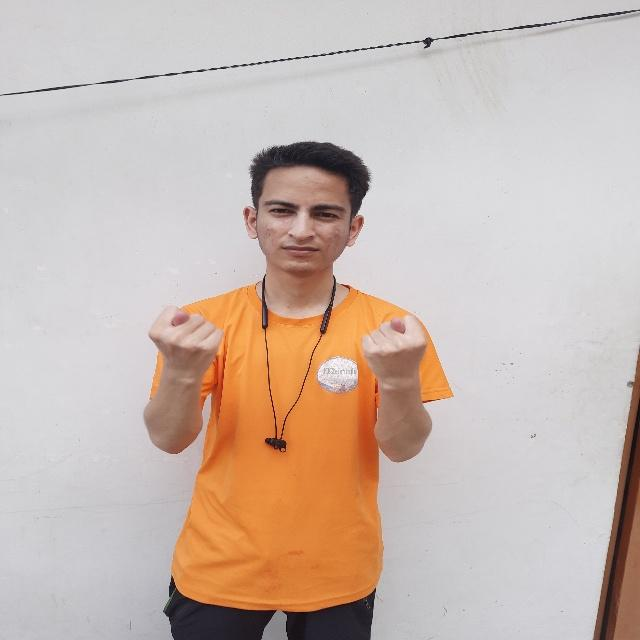Dulya: (139, 295, 230, 391), (355, 307, 437, 397)
